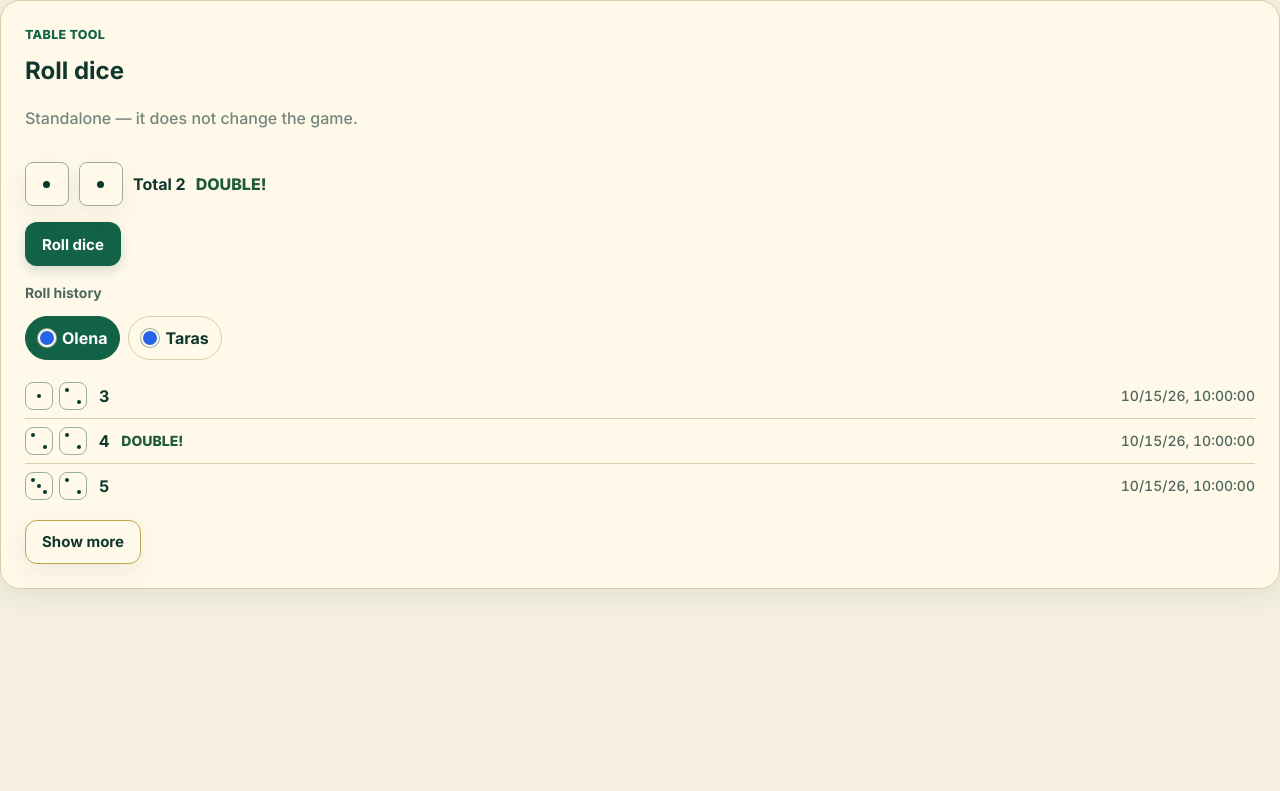
Test: DiceRoller history › paging › shows the latest 3 rolls with a date and time, then 10 more per click
Check: the number of list items is 3, box x1=25 y1=374 x2=1255 y2=419; x1=25 y1=419 x2=1255 y2=464; x1=25 y1=464 x2=1255 y2=508
Check: the 1st text "10/15/26, 10:00:00" is shown, box x1=1121 y1=385 x2=1255 y2=407
Click the button "Show more". click: (83, 542)
box: x1=25 y1=520 x2=141 y2=564
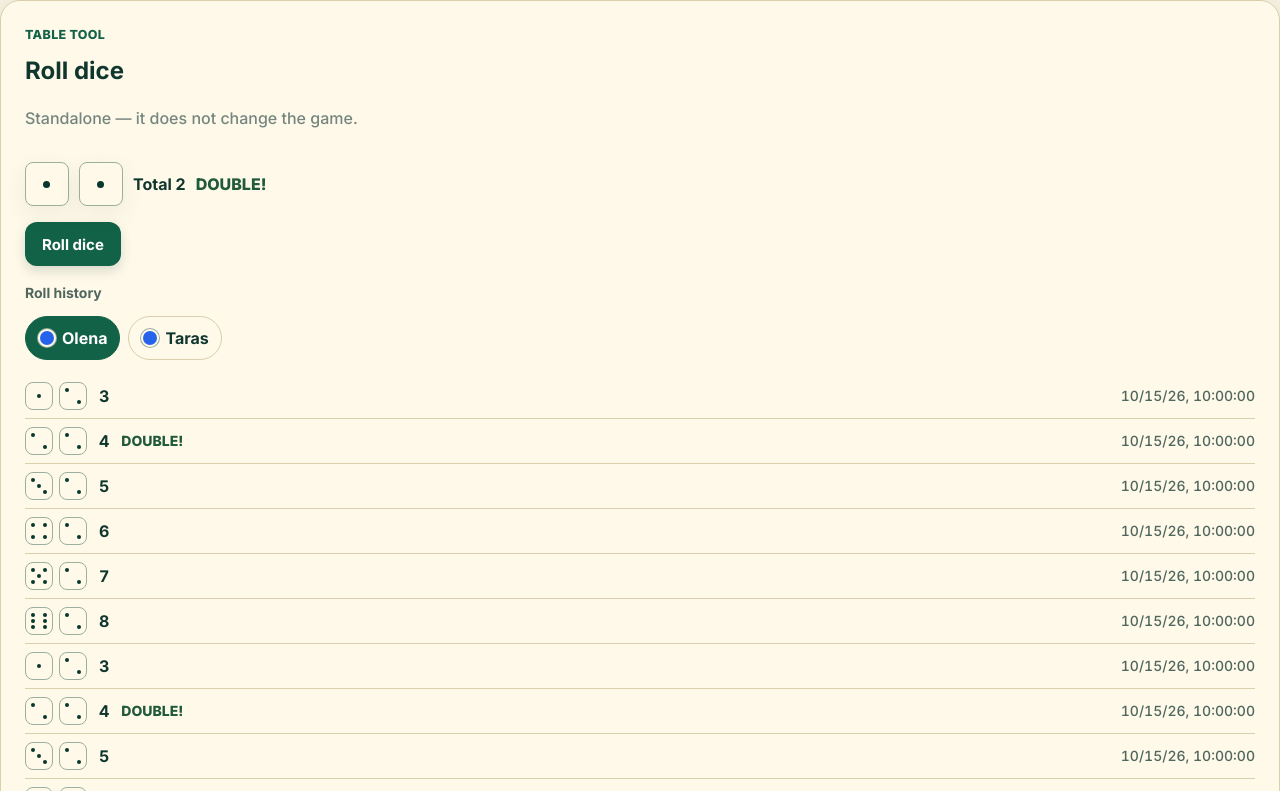
Check: the number of list items is 13
